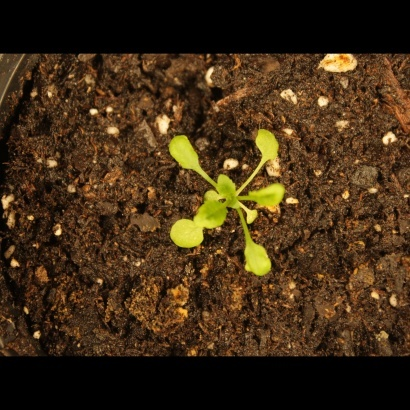leaf: (165, 128, 206, 178), (237, 234, 278, 280), (164, 214, 204, 253), (249, 124, 285, 165), (247, 181, 291, 208), (195, 201, 228, 230), (213, 173, 239, 202), (241, 207, 264, 230), (202, 182, 225, 205)
